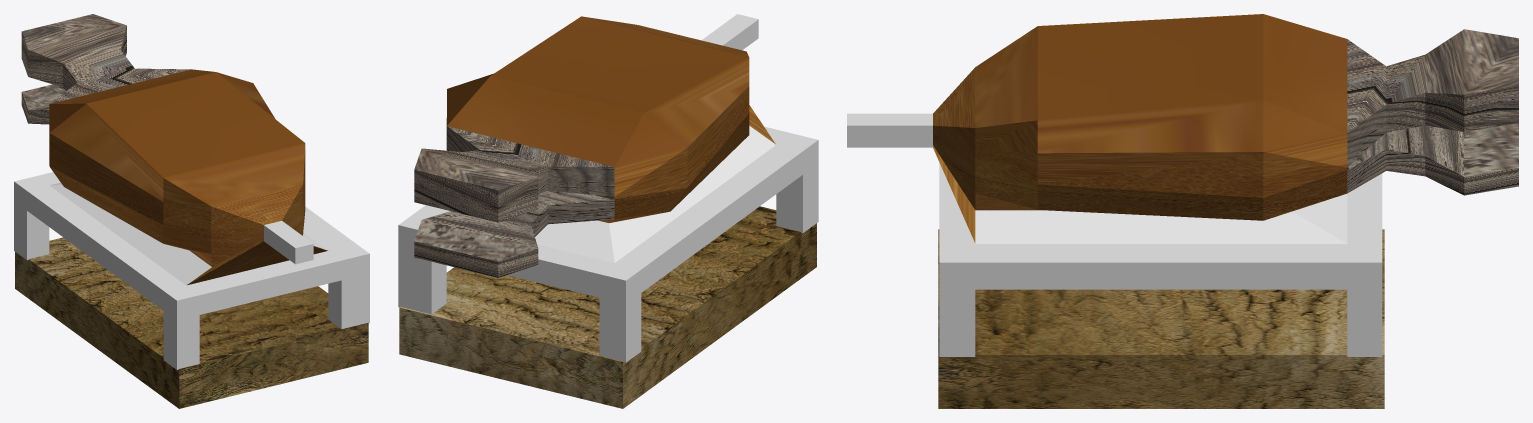
File: soufflet.glb
3 renders of one model, left to right at view 1: azimuth 30°, elevation 25°; view 2: azimuth 150°, elevation 25°; view 3: azimuth 270°, elevation 25°, orthographic. The views are drawn at different scales.
Visible parts, largest first — view 1: Cube.001; view 2: Cube.001; view 3: Cube.001.
Boxes of the visible parts, box(x1,y1,x2,y2) form: Cube.001: box(14, 14, 369, 408); Cube.001: box(398, 14, 818, 408); Cube.001: box(847, 14, 1518, 408).
Bounding box in the file's own units: 4.3 × 4.26 × 9.03.
Materials: 4 (3 with a texture image).
